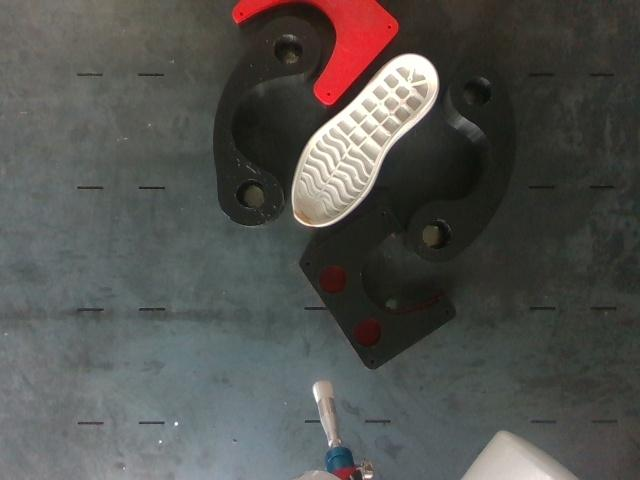shoes: (293, 55, 437, 225)
